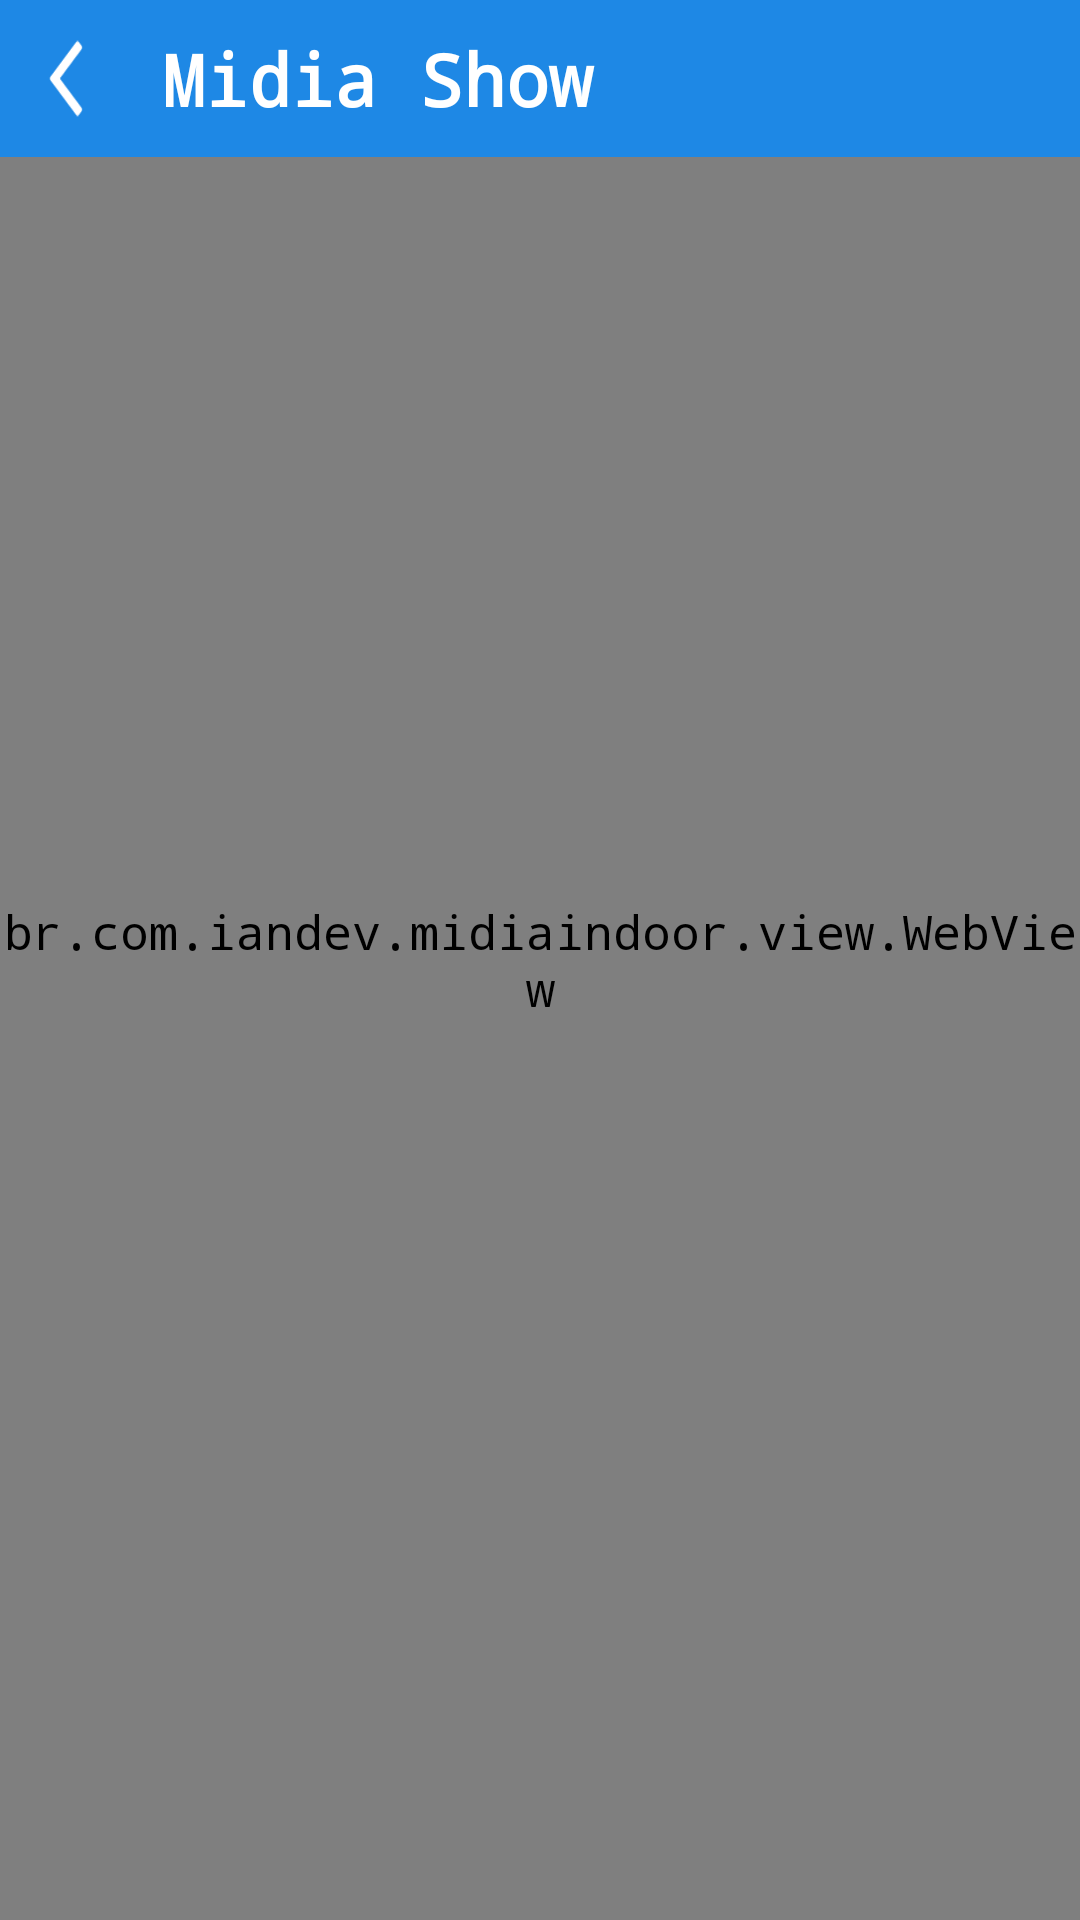

Point at icon controls on the screen. Image size 1080w x 1920h, points as (x,y).
Voltar: (66,78)
